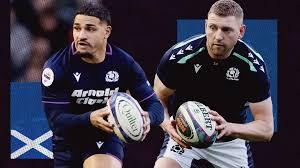ballon_rugby: (105, 91, 148, 144), (175, 100, 218, 148)
